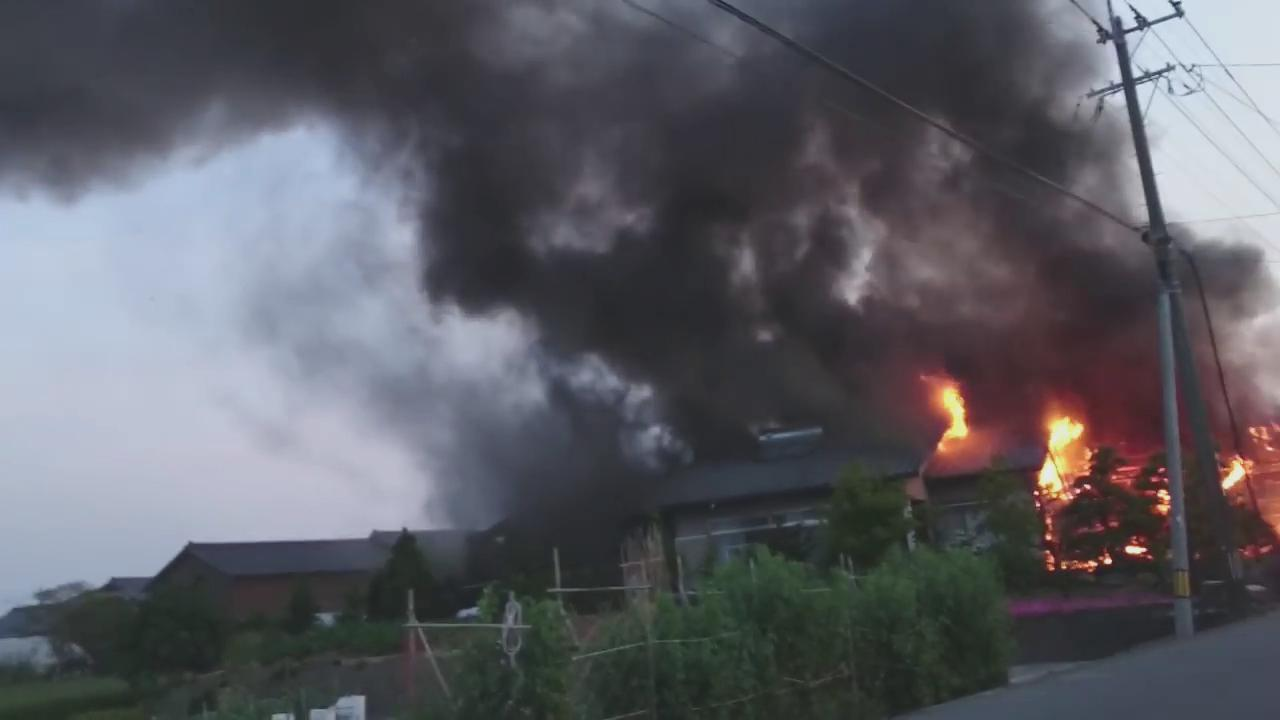Fire: (1036, 413, 1096, 499), (929, 380, 973, 452), (1044, 554, 1114, 571), (1217, 457, 1248, 491), (1123, 541, 1149, 559)
